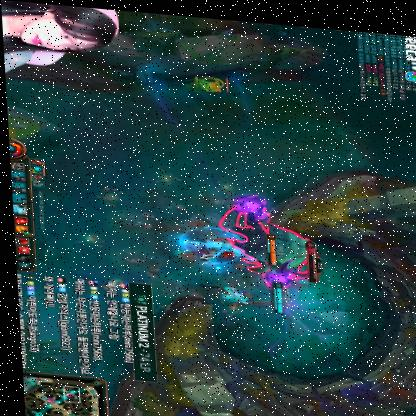streamer: (0, 0, 118, 88)
